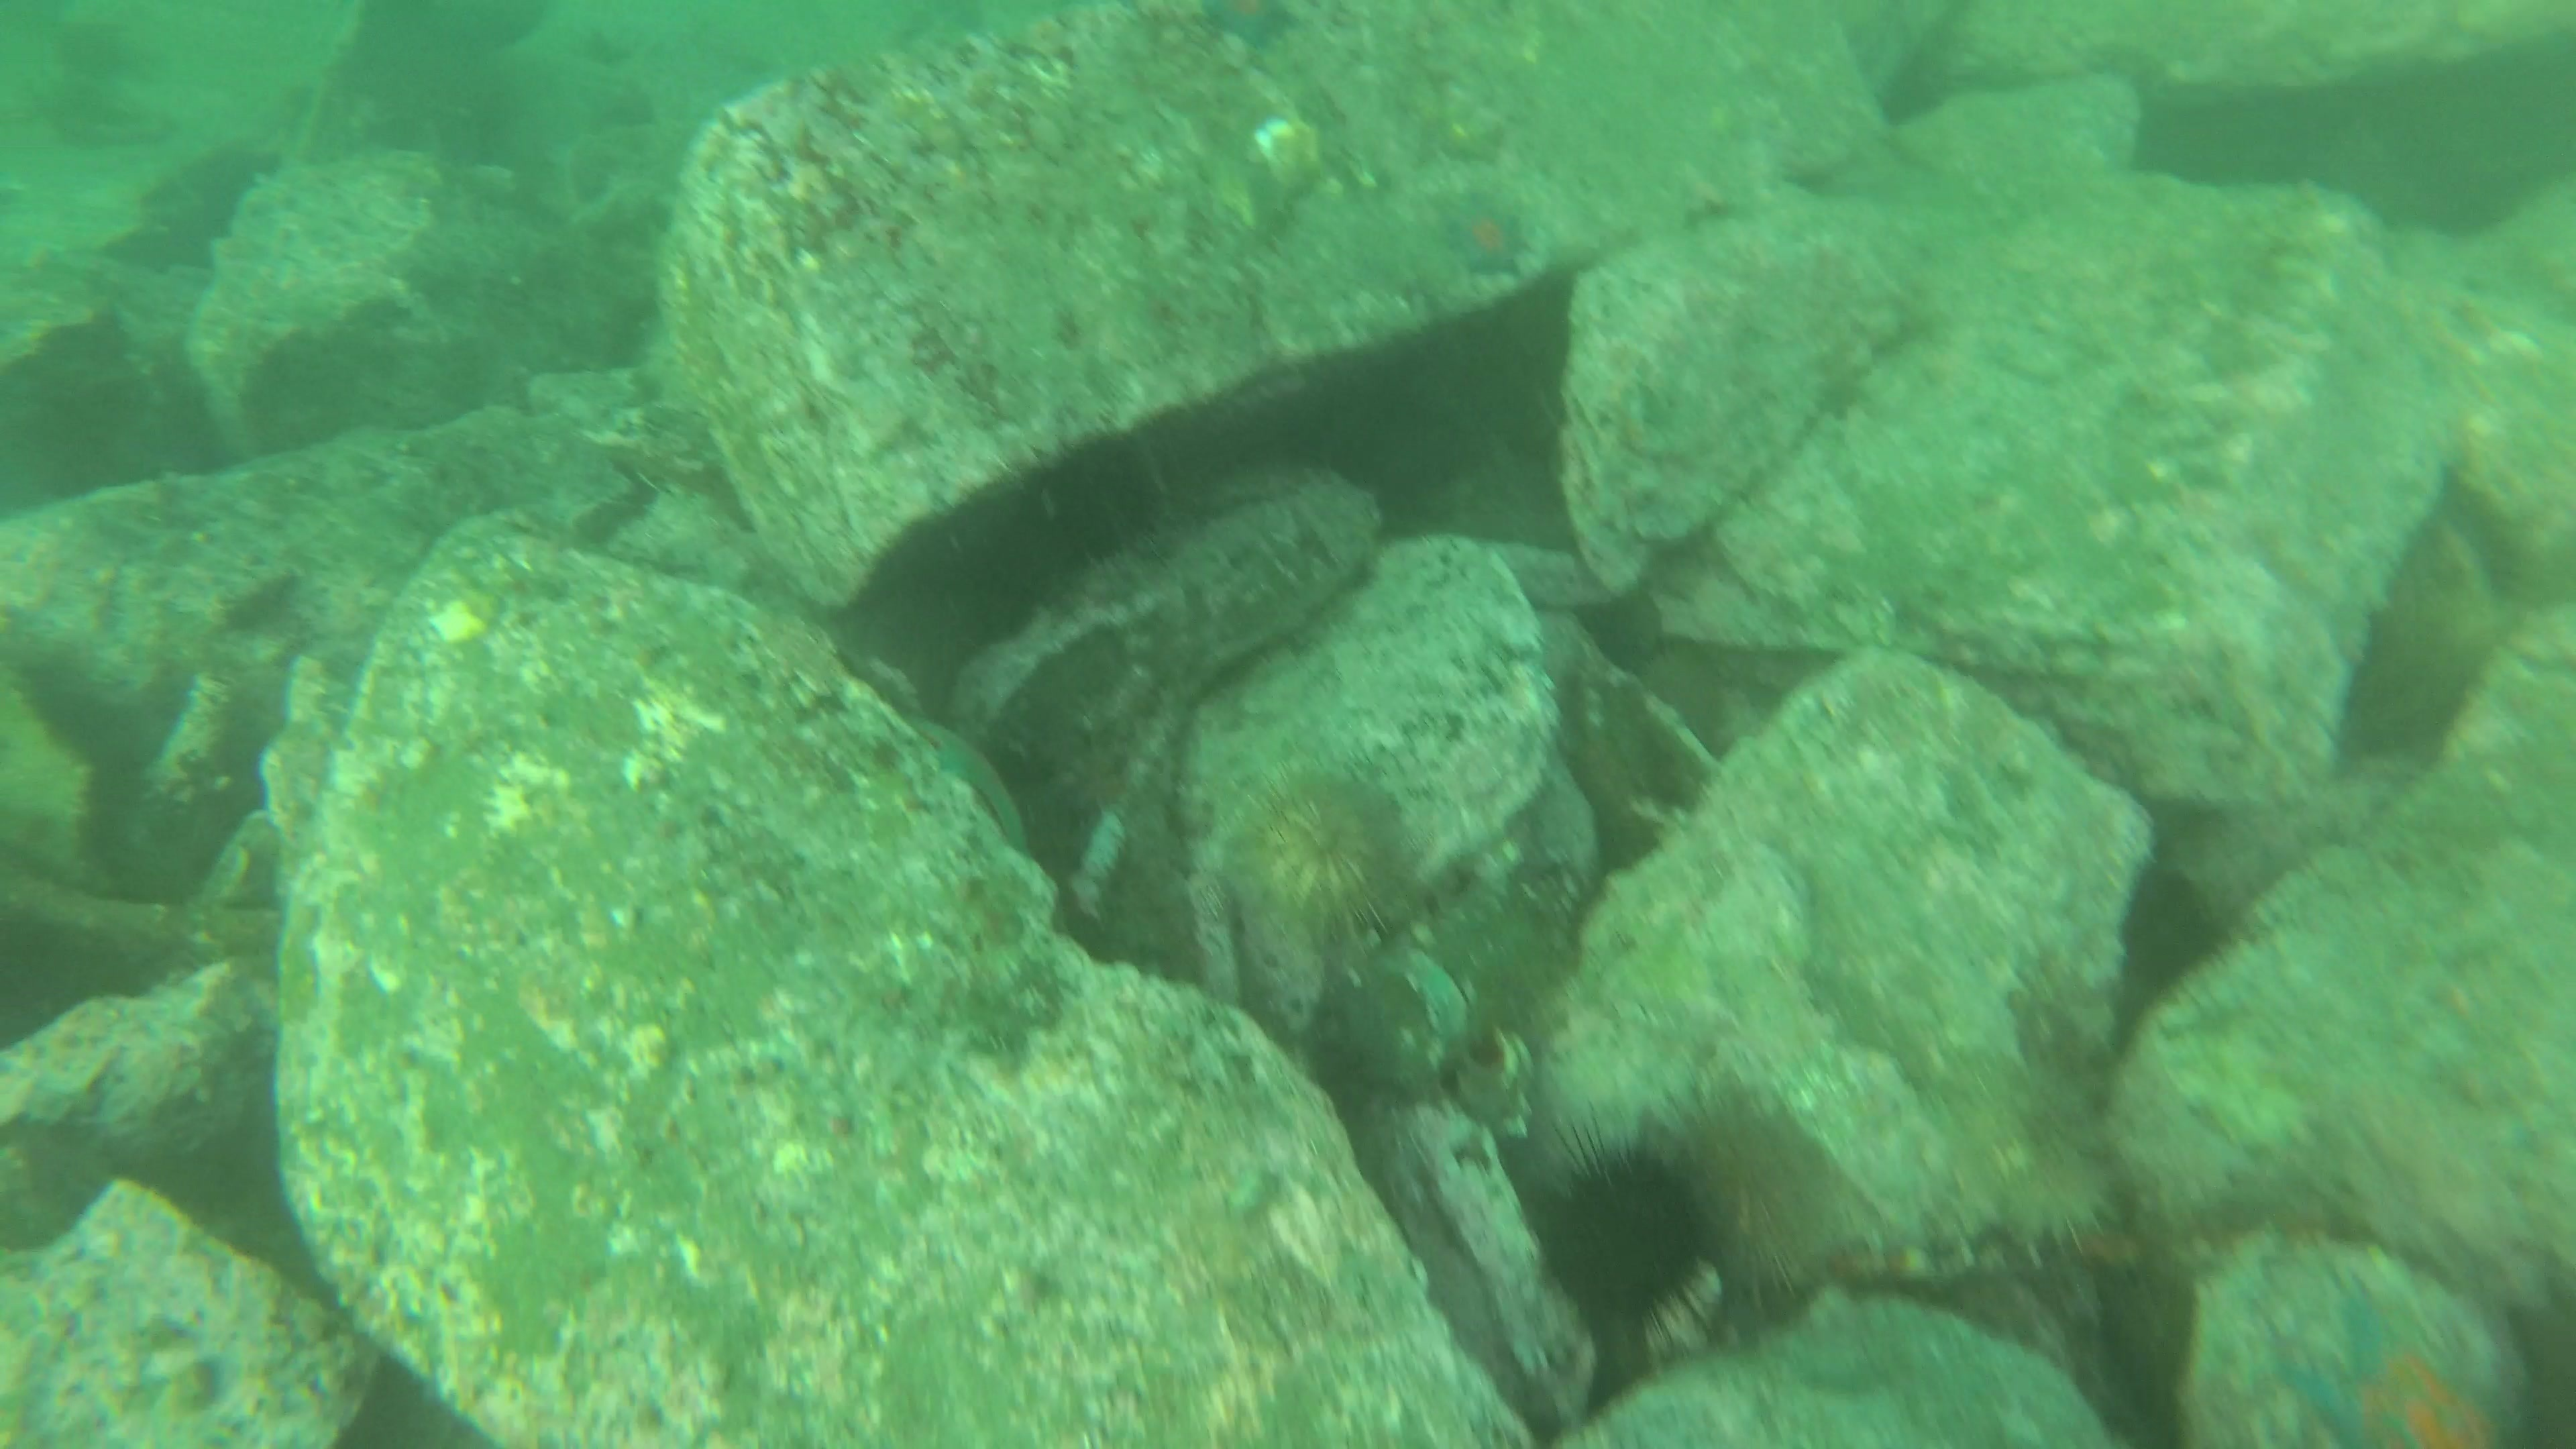echinus: (1522, 1125, 1730, 1345), (1651, 1079, 1854, 1300), (1937, 1042, 2121, 1238), (1226, 761, 1414, 943), (2111, 860, 2240, 1000)
starfish: (2279, 1286, 2532, 1444), (1428, 182, 1541, 285), (1191, 0, 1309, 58)
